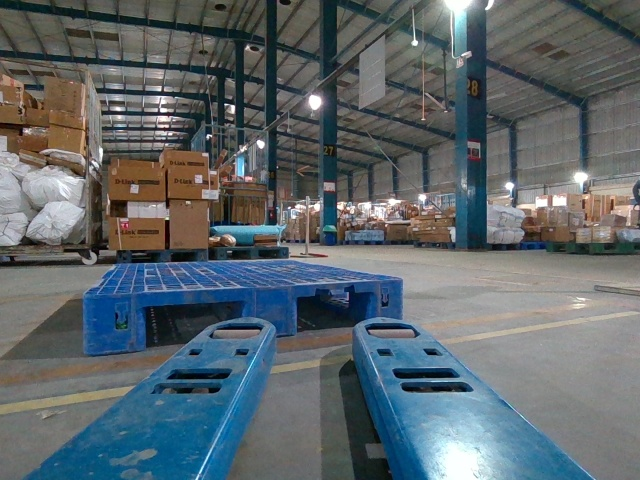pallet: (84, 279, 402, 353)
